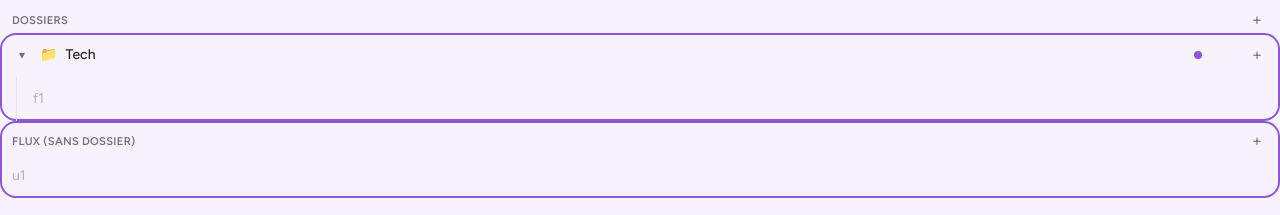
Test: FolderTree › déclencheur d'actions masqué au repos, clic droit ouvre le menu (#114)
Right-click the element named "Actions pour Tech".
right_click(1198, 55)  # box [12,45,1268,65]
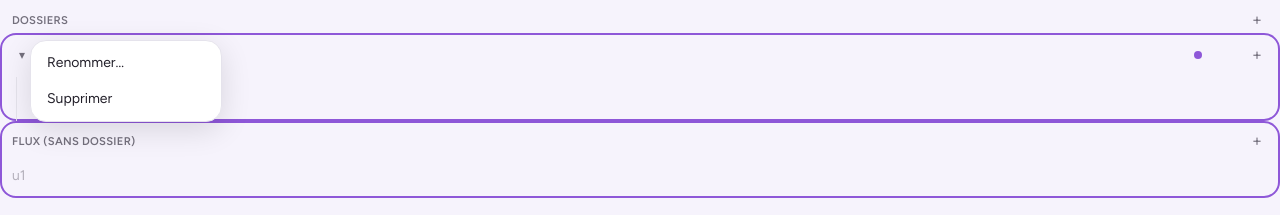
Expected: the menu item "Renommer…" is shown, [35,45,217,81]
Expected: the menu item "Supprimer" is shown, [35,81,217,117]
